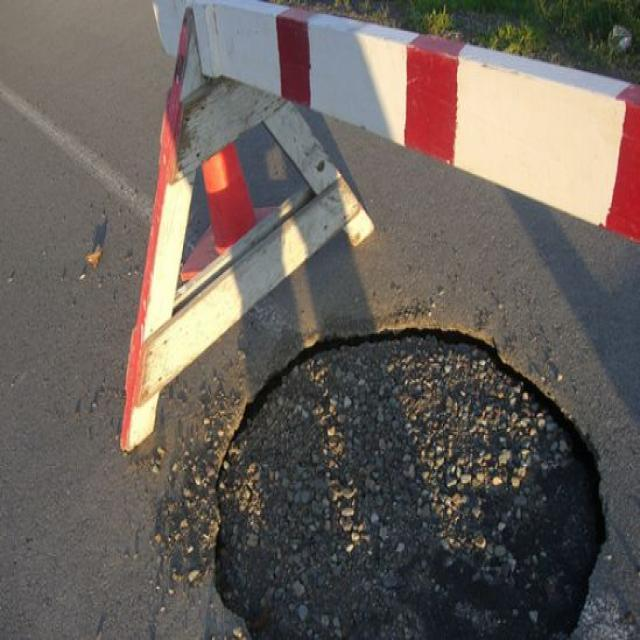Pothole: (207, 317, 613, 640)
